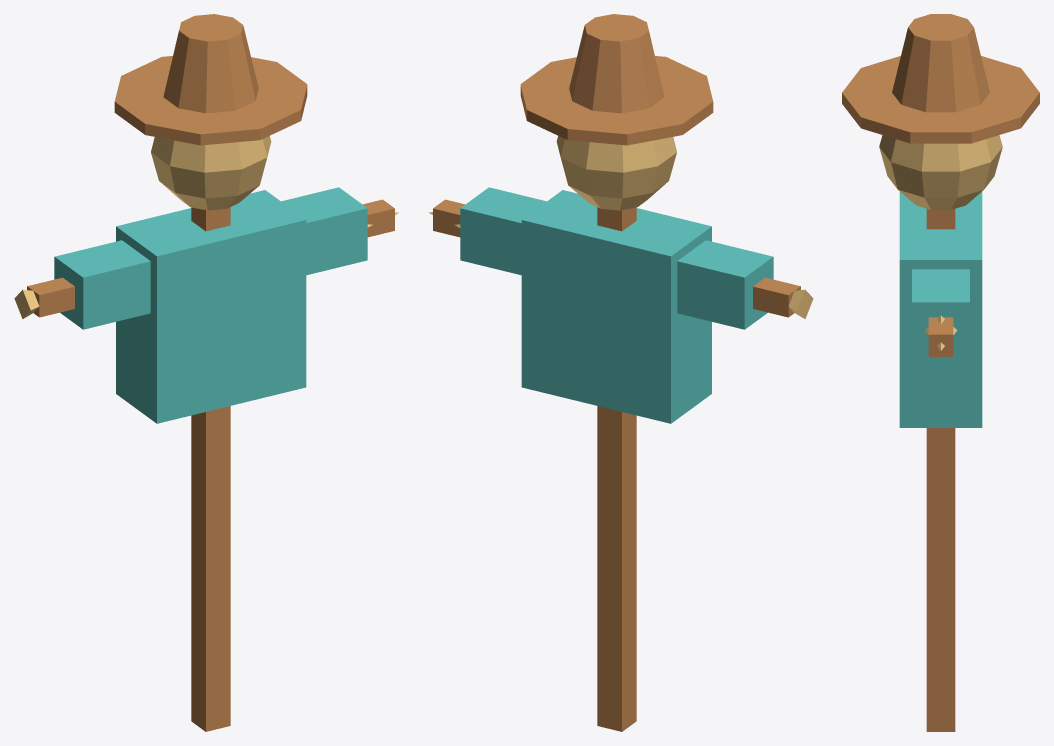
File: hw3d_scarecrow.glb
3 renders of one model, left to right at view 1: azimuth 30°, elevation 25°; view 2: azimuth 150°, elevation 25°; view 3: azimuth 270°, elevation 25°, orthographic.
Visible parts, largest first — view 1: hw3d_scarecrow; view 2: hw3d_scarecrow; view 3: hw3d_scarecrow.
Part boxes in pixels (box(x1,y1,x2,y2)): hw3d_scarecrow: box(14, 14, 398, 731); hw3d_scarecrow: box(429, 14, 813, 731); hw3d_scarecrow: box(842, 14, 1039, 731).
Size of what is drawn, in the model's own units: 1.06 by 1.87 by 0.48.
